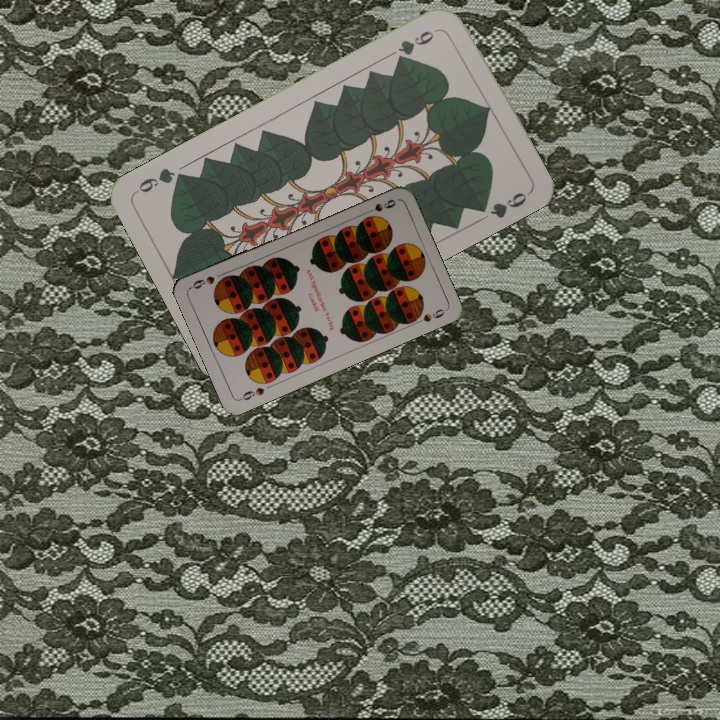G9: (392, 24, 442, 65)
S9: (360, 195, 399, 217), (235, 383, 267, 403)
